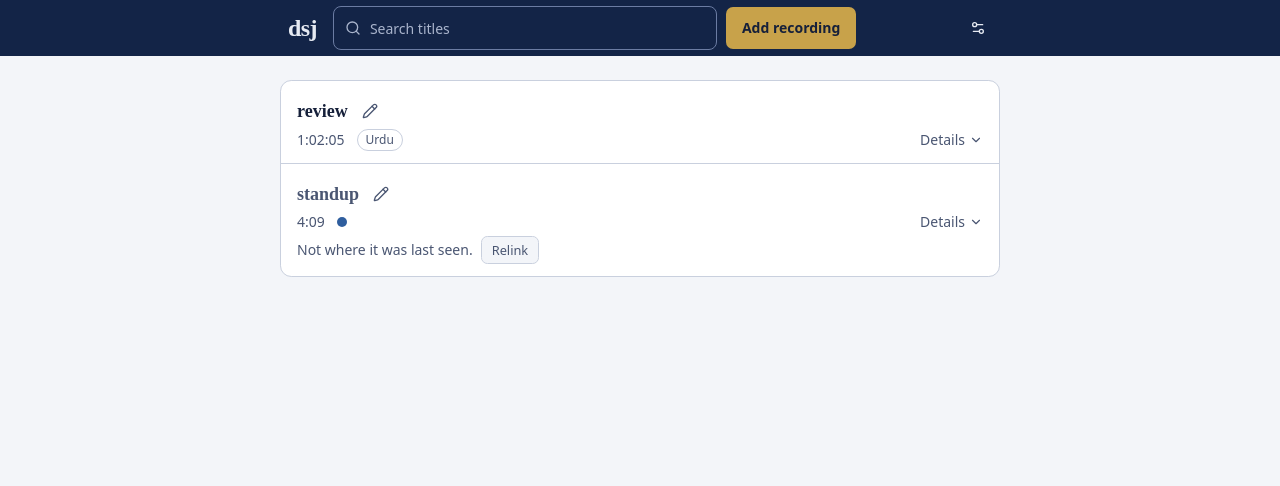
it: the library page › shows an adopted transcript's engine as unknown, and one speaker as 1 speaker
Expected: the picture named "1 speaker" is shown, [337,217,347,227]
Click the button "Details" in the row of "4:09". click: point(952, 222)
box: [920,212,983,232]
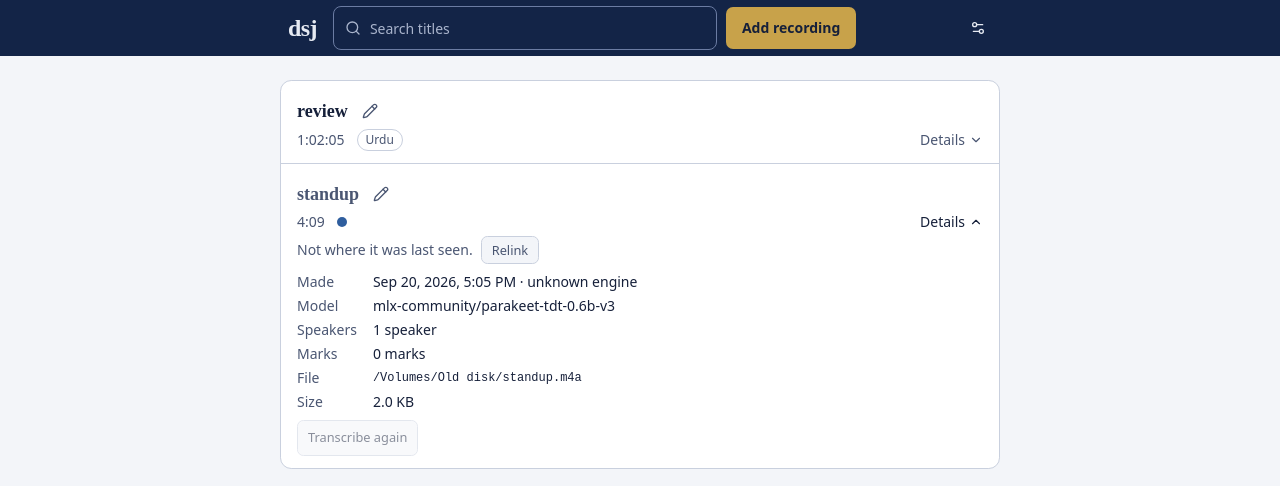
Expected: the text "1 speaker" is shown, [373,320,437,339]
Expected: the text "0 marks" is shown, [373,344,426,363]
